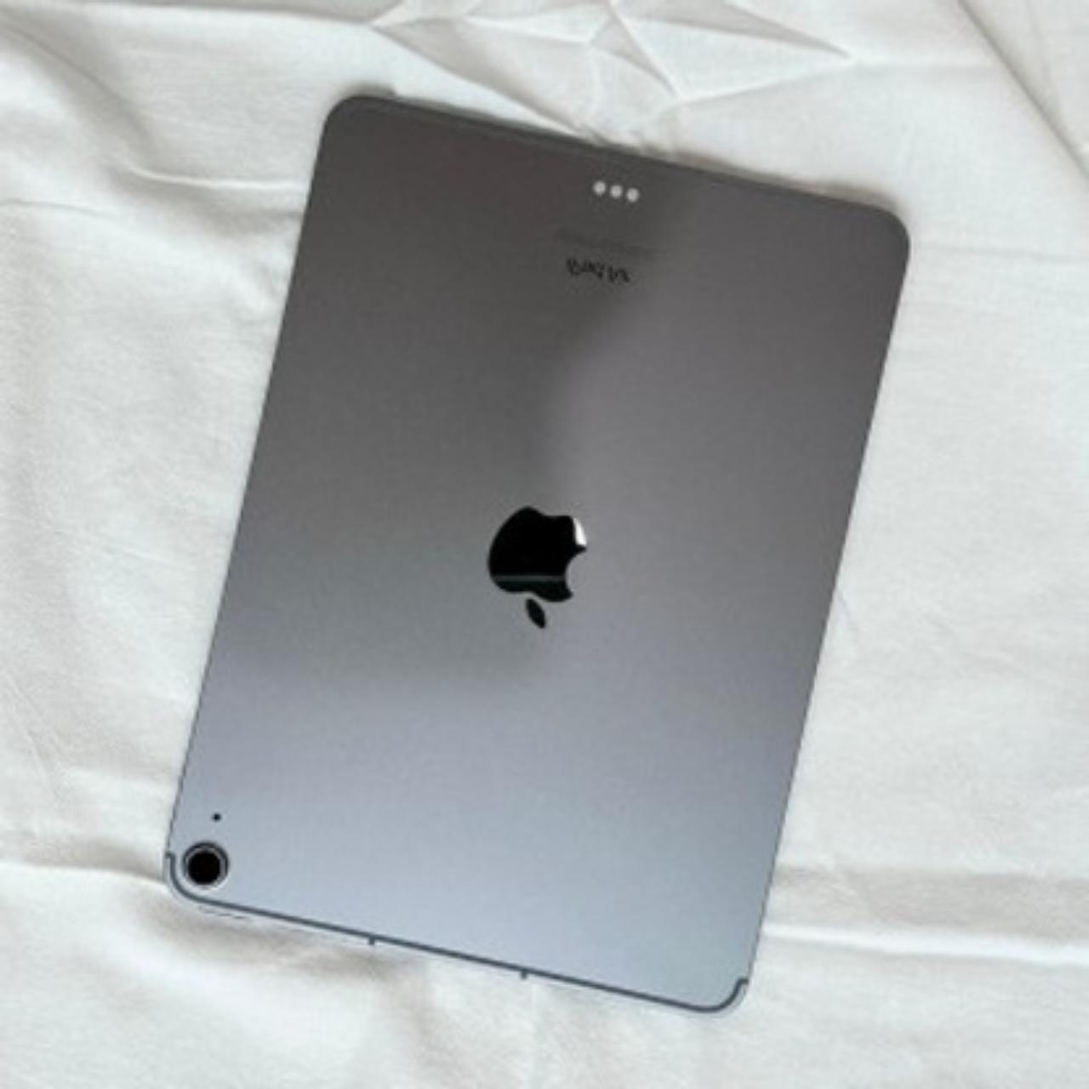Tablet_PC: (152, 86, 929, 1018)
